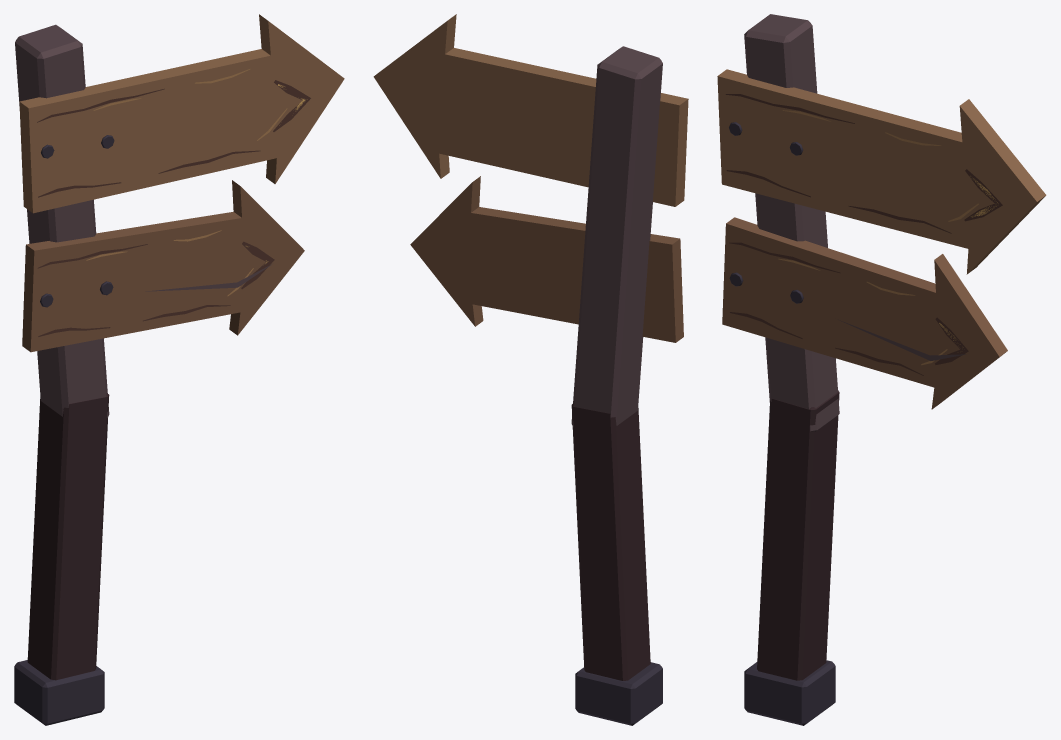
File: signpost.glb
3 views of the same model, side by side, from view 1: azimuth 30°, elevation 25°; view 2: azimuth 150°, elevation 25°; view 3: azimuth 330°, elevation 25° (orthographic). The views are drawn at different scales.
Visible parts, largest first — view 1: signpost; view 2: signpost; view 3: signpost.
Boxes of the visible parts, x1=… form: signpost: x1=14, y1=14, x2=344, y2=725; signpost: x1=373, y1=14, x2=688, y2=725; signpost: x1=717, y1=14, x2=1046, y2=725.
Bounding box in the file's own units: 0.945 × 1.93 × 0.1955.
